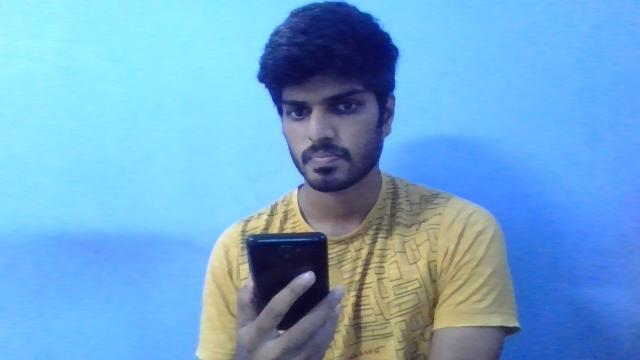PhoneUse: (246, 230, 326, 354)
SafeDriving: (274, 92, 318, 124), (325, 91, 370, 119)
